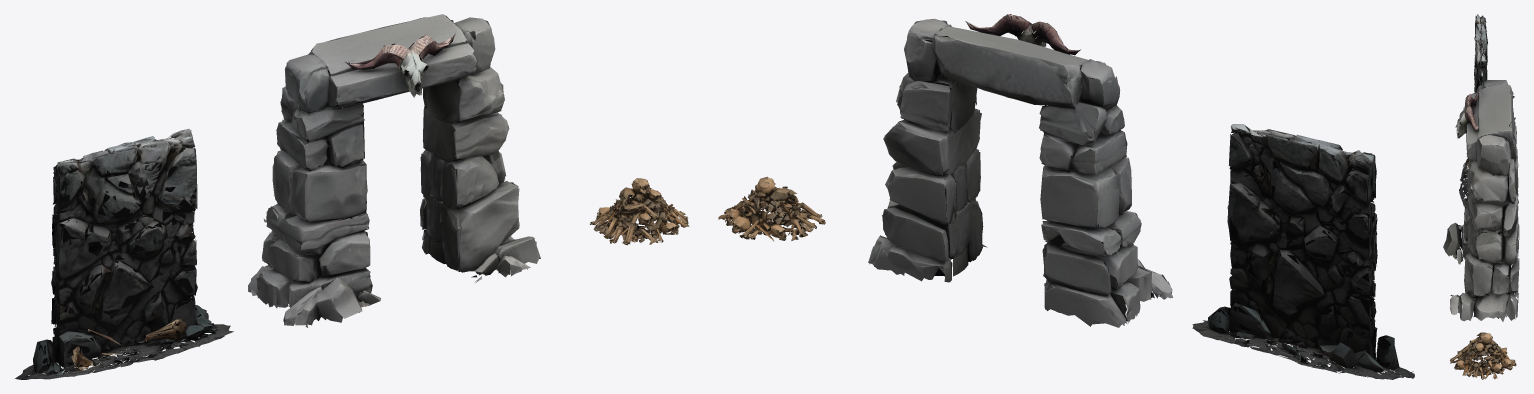
File: dungeon-kit.glb
3 views of the same model, side by side, from view 1: azimuth 30°, elevation 25°; view 2: azimuth 150°, elevation 25°; view 3: azimuth 270°, elevation 25° (orthographic). The views are drawn at different scales.
Visible parts, largest first — view 1: cave_doorway, cave_wall, bone_pile; view 2: cave_doorway, cave_wall, bone_pile; view 3: cave_doorway, bone_pile, cave_wall.
Boxes of the visible parts, x1,y1,x2,y2 form: cave_doorway: (248,14,540,327); cave_wall: (15,129,233,379); bone_pile: (590,178,689,245); cave_doorway: (868,14,1173,327); cave_wall: (1192,124,1414,379); bone_pile: (718,176,825,241); cave_doorway: (1443,80,1519,321); bone_pile: (1450,332,1516,379); cave_wall: (1459,14,1487,208).
Bounding box in the file's own units: 12.29 × 4.42 × 1.71.
Materials: 3 (3 with a texture image).
